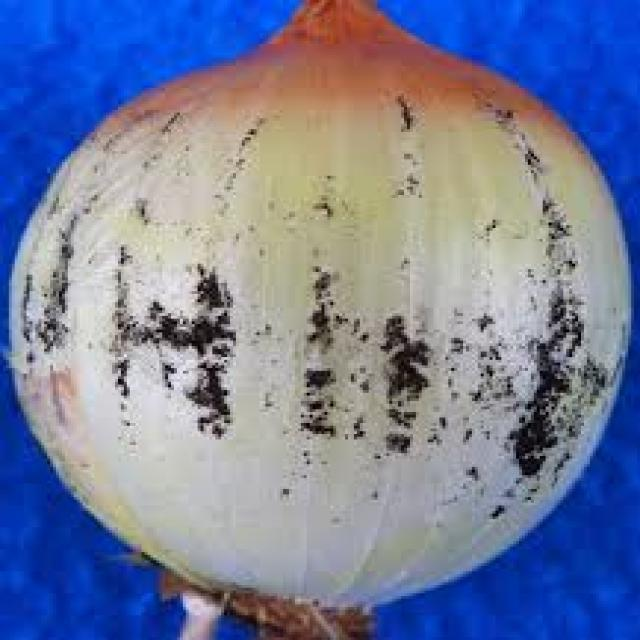Onion: (8, 2, 630, 637)
